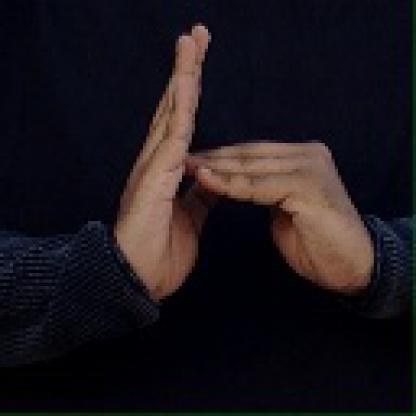Z: (101, 13, 358, 288)
